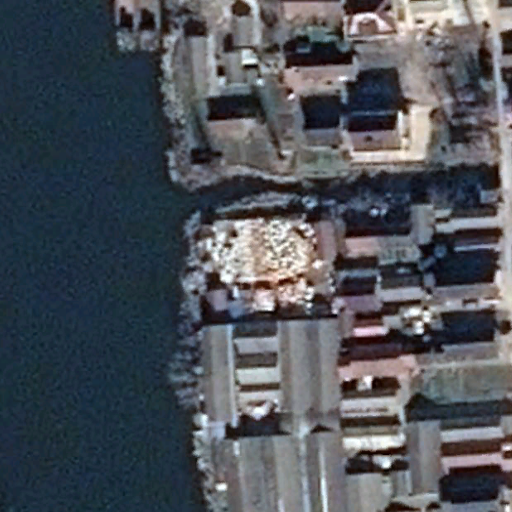msw: (212, 221, 312, 318)
